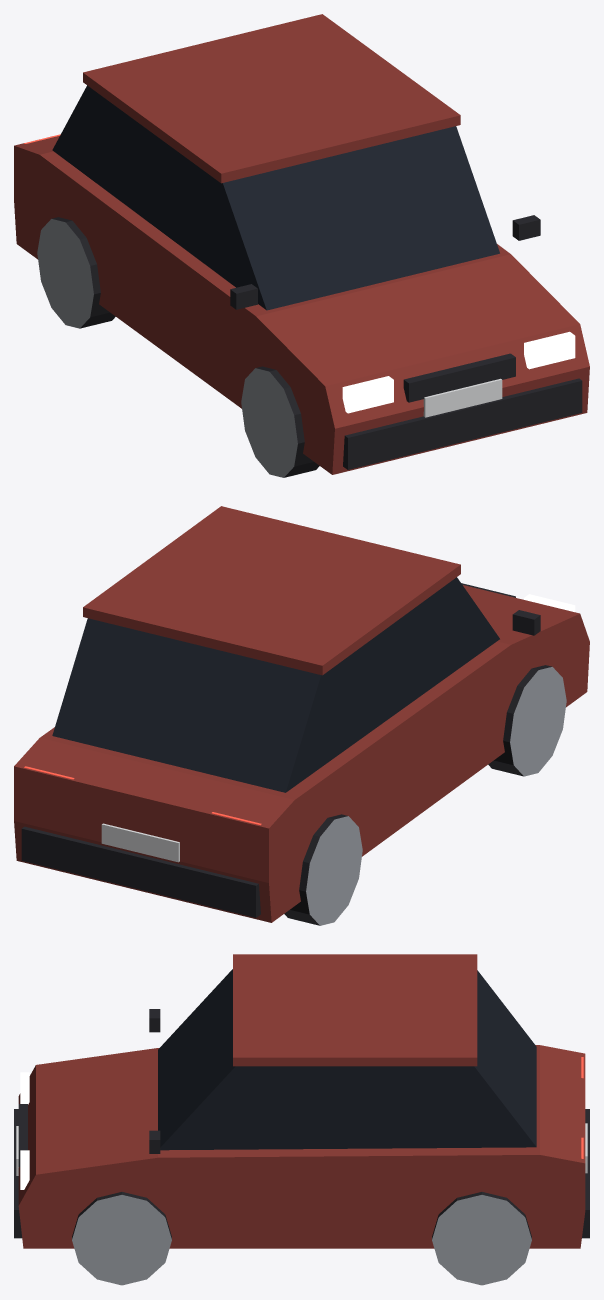
File: pino.glb
3 renders of one model, top to bottom at view 1: azimuth 30°, elevation 25°; view 2: azimuth 150°, elevation 25°; view 3: azimuth 270°, elevation 25°, orthographic. The views are drawn at different scales.
Parts seen in each view (by area): view 1: pino, wheel_FR, wheel_RR; view 2: pino, wheel_FR, wheel_RR; view 3: pino, wheel_FL, wheel_RL.
Boxes of the visible parts, x1=… form: pino: x1=14, y1=14, x2=589, y2=474; wheel_FR: x1=241, y1=366, x2=319, y2=477; wheel_RR: x1=37, y1=217, x2=115, y2=328; pino: x1=14, y1=506, x2=589, y2=922; wheel_FR: x1=488, y1=665, x2=566, y2=776; wheel_RR: x1=284, y1=814, x2=362, y2=925; pino: x1=14, y1=954, x2=589, y2=1248; wheel_FL: x1=72, y1=1192, x2=171, y2=1285; wheel_RL: x1=432, y1=1192, x2=531, y2=1285.
Size of the model in its own units: 1.98 by 1.56 by 3.68.
